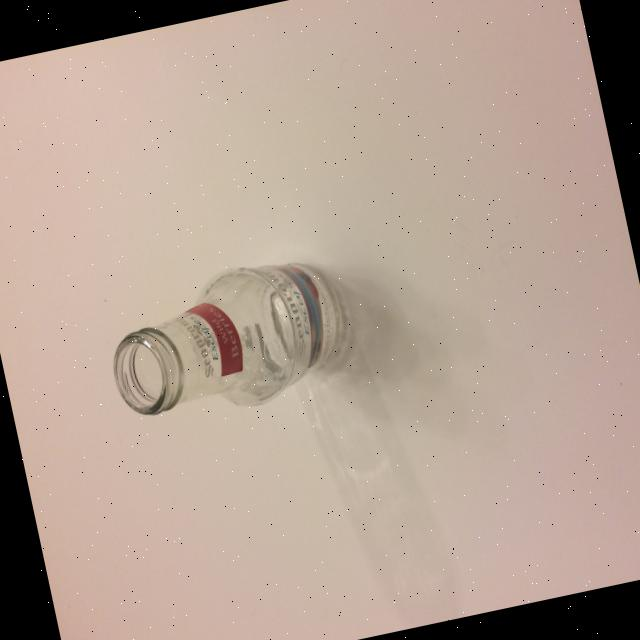glass: (96, 244, 360, 433)
